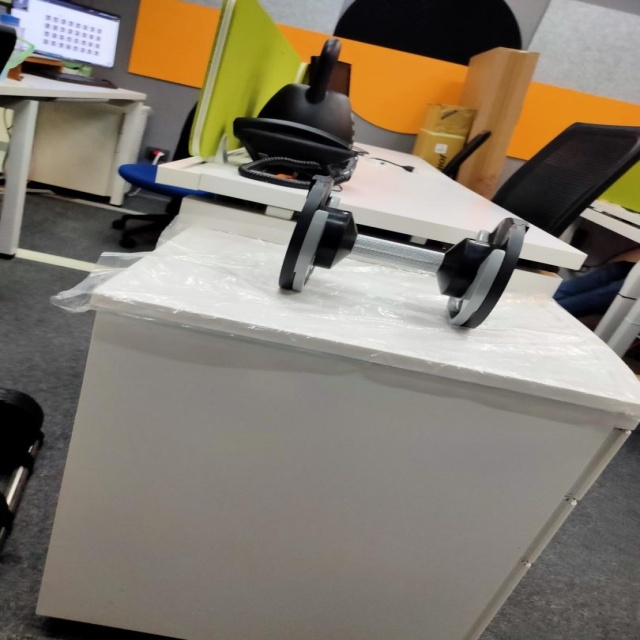02-4kg: (276, 174, 530, 331)
